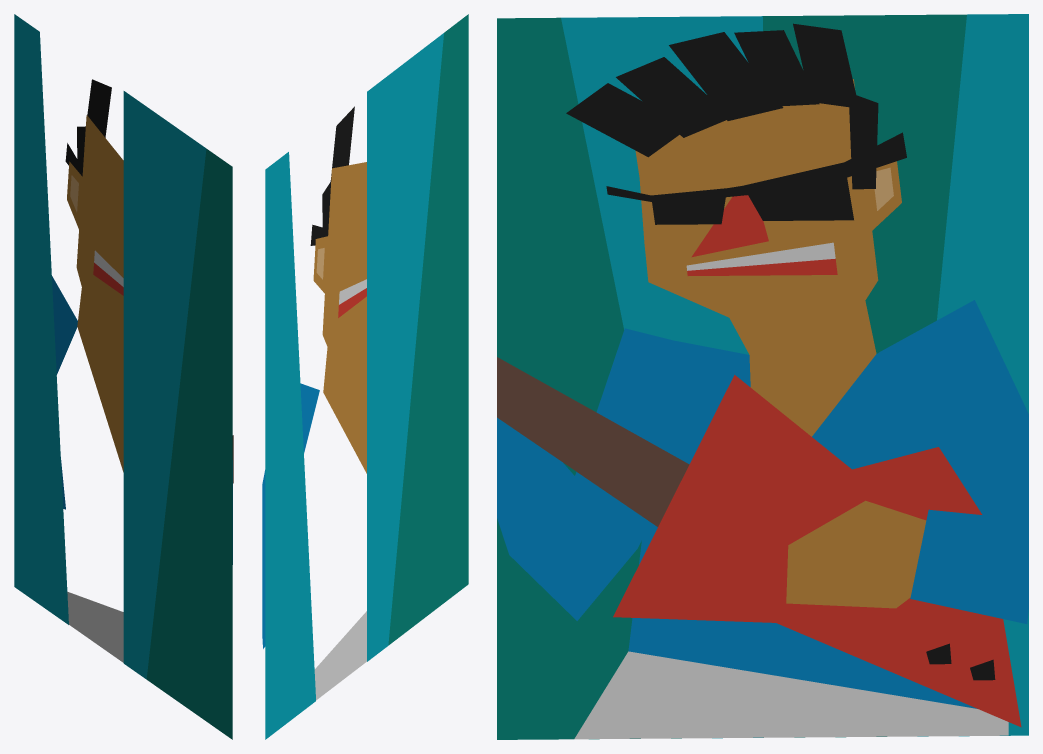
File: rock_band_poster_plane_002_intact.glb
The picture shows the model from 3 angles, left to right: view 1: azimuth 30°, elevation 25°; view 2: azimuth 150°, elevation 25°; view 3: azimuth 270°, elevation 25°; orthographic projection. The views are drawn at different scales.
Parts seen in each view (by area): view 1: Rock_Band_Poster_Plane.001; view 2: Rock_Band_Poster_Plane.001; view 3: Rock_Band_Poster_Plane.001.
Boxes of the visible parts, <box> form: Rock_Band_Poster_Plane.001: <box>14,14,233,739</box>; Rock_Band_Poster_Plane.001: <box>262,14,468,739</box>; Rock_Band_Poster_Plane.001: <box>497,14,1028,739</box>.
Size of the model in its own units: 0.0599 by 4.2 by 2.81.
